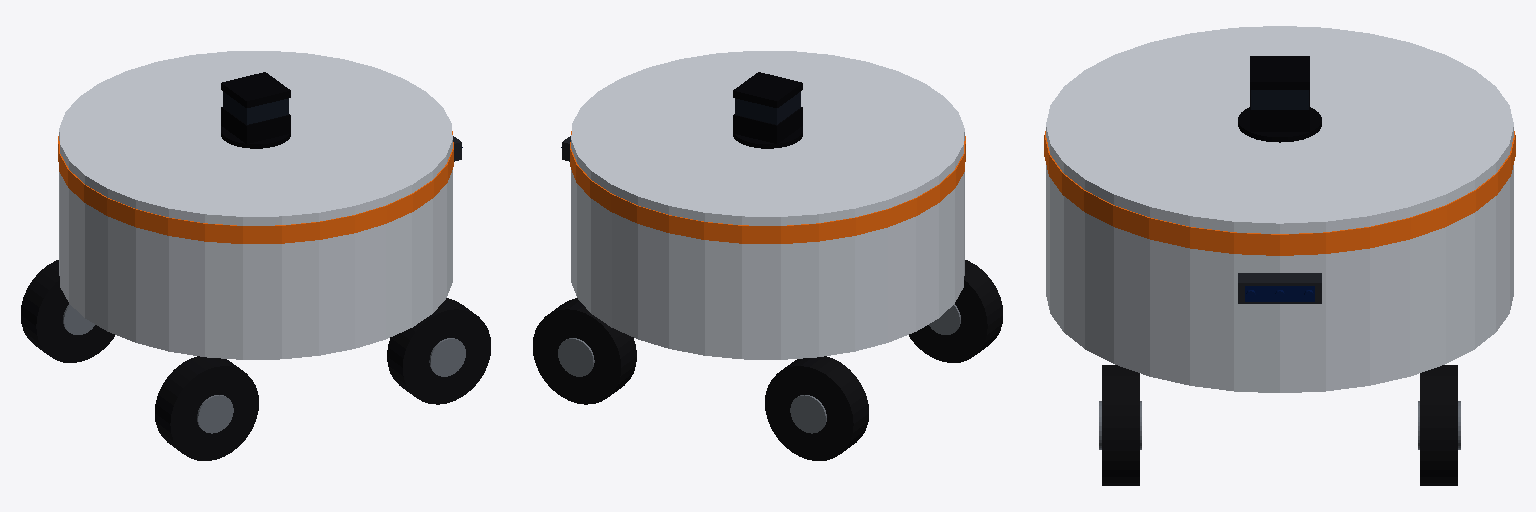
The robot description file, URDF, robot "zhirong_omni_robot":
<?xml version="1.0"?>
<!--
  Zhirong Cup omnidirectional robot - minimalist primitive-geometry URDF
  ======================================================================
  Coordinate convention:
    +X : forward (depth camera side)
    +Y : left
    +Z : up
    base_footprint : ground projection of the robot centre
    base_link      : geometric centre of the cylindrical body

  Key dimensions (metres):
    body cylinder          radius 0.250, height 0.200
    body bottom / top      z = 0.140 / 0.340
    wheel                  radius 0.065, width 0.040
    wheel centres          x = +-0.170, y = +-0.170, z = 0.065
    Livox Mid-360          65 x 65 x 60 mm, on body top centre
    depth camera (D435i)   90 x 25 x 25 mm, front face of body
  ======================================================================
-->
<robot name="zhirong_omni_robot">

  <!-- ======================= materials ======================= -->
  <material name="body_gray">
    <color rgba="0.82 0.84 0.87 1.0"/>
  </material>
  <material name="accent_orange">
    <color rgba="0.95 0.45 0.10 1.0"/>
  </material>
  <material name="wheel_black">
    <color rgba="0.09 0.09 0.10 1.0"/>
  </material>
  <material name="hub_gray">
    <color rgba="0.45 0.47 0.50 1.0"/>
  </material>
  <material name="lidar_black">
    <color rgba="0.05 0.05 0.06 1.0"/>
  </material>
  <material name="lidar_glass">
    <color rgba="0.10 0.12 0.16 1.0"/>
  </material>
  <material name="camera_dark">
    <color rgba="0.15 0.16 0.18 1.0"/>
  </material>
  <material name="lens_blue">
    <color rgba="0.04 0.12 0.30 1.0"/>
  </material>

  <!-- ======================= chassis ======================= -->
  <link name="base_footprint"/>

  <link name="base_link">
    <inertial>
      <origin xyz="0 0 0" rpy="0 0 0"/>
      <mass value="8.0"/>
      <!-- solid cylinder: Ixx=Iyy=m(3r^2+h^2)/12, Izz=m r^2/2 -->
      <inertia ixx="0.1516667" ixy="0.0" ixz="0.0"
               iyy="0.1516667" iyz="0.0" izz="0.25"/>
    </inertial>

    <visual>
      <origin xyz="0 0 0" rpy="0 0 0"/>
      <geometry>
        <cylinder radius="0.25" length="0.20"/>
      </geometry>
      <material name="body_gray"/>
    </visual>

    <!-- thin orange accent band, purely cosmetic -->
    <visual>
      <origin xyz="0 0 0.075" rpy="0 0 0"/>
      <geometry>
        <cylinder radius="0.2515" length="0.025"/>
      </geometry>
      <material name="accent_orange"/>
    </visual>

    <collision>
      <origin xyz="0 0 0" rpy="0 0 0"/>
      <geometry>
        <cylinder radius="0.25" length="0.20"/>
      </geometry>
    </collision>
  </link>

  <joint name="base_footprint_joint" type="fixed">
    <parent link="base_footprint"/>
    <child link="base_link"/>
    <origin xyz="0 0 0.24" rpy="0 0 0"/>
  </joint>

  <!-- ======================= wheels =======================
       Four mecanum-style wheels, X layout (45 deg positions).
       Wheel axle is parallel to Y, so every wheel uses axis "0 1 0".
       For mecanum kinematics the four wheel speeds are the usual
       w_fl = ( vx - vy - (lx+ly)wz ) / r  ... etc.
  ======================================================== -->

  <!-- front left -->
  <link name="wheel_front_left_link">
    <inertial>
      <origin xyz="0 0 0" rpy="0 0 0"/>
      <mass value="0.4"/>
      <!-- cylinder axis along Y -->
      <inertia ixx="0.0004758" ixy="0.0" ixz="0.0"
               iyy="0.0008450" iyz="0.0" izz="0.0004758"/>
    </inertial>
    <visual>
      <origin xyz="0 0 0" rpy="1.57079632679 0 0"/>
      <geometry>
        <cylinder radius="0.065" length="0.040"/>
      </geometry>
      <material name="wheel_black"/>
    </visual>
    <visual>
      <origin xyz="0 0 0" rpy="1.57079632679 0 0"/>
      <geometry>
        <cylinder radius="0.026" length="0.046"/>
      </geometry>
      <material name="hub_gray"/>
    </visual>
    <collision>
      <origin xyz="0 0 0" rpy="1.57079632679 0 0"/>
      <geometry>
        <cylinder radius="0.065" length="0.040"/>
      </geometry>
    </collision>
  </link>
  <joint name="wheel_front_left_joint" type="continuous">
    <parent link="base_link"/>
    <child link="wheel_front_left_link"/>
    <origin xyz="0.17 0.17 -0.175" rpy="0 0 0"/>
    <axis xyz="0 1 0"/>
    <limit effort="20.0" velocity="30.0"/>
    <dynamics damping="0.01" friction="0.01"/>
  </joint>

  <!-- front right -->
  <link name="wheel_front_right_link">
    <inertial>
      <origin xyz="0 0 0" rpy="0 0 0"/>
      <mass value="0.4"/>
      <inertia ixx="0.0004758" ixy="0.0" ixz="0.0"
               iyy="0.0008450" iyz="0.0" izz="0.0004758"/>
    </inertial>
    <visual>
      <origin xyz="0 0 0" rpy="1.57079632679 0 0"/>
      <geometry>
        <cylinder radius="0.065" length="0.040"/>
      </geometry>
      <material name="wheel_black"/>
    </visual>
    <visual>
      <origin xyz="0 0 0" rpy="1.57079632679 0 0"/>
      <geometry>
        <cylinder radius="0.026" length="0.046"/>
      </geometry>
      <material name="hub_gray"/>
    </visual>
    <collision>
      <origin xyz="0 0 0" rpy="1.57079632679 0 0"/>
      <geometry>
        <cylinder radius="0.065" length="0.040"/>
      </geometry>
    </collision>
  </link>
  <joint name="wheel_front_right_joint" type="continuous">
    <parent link="base_link"/>
    <child link="wheel_front_right_link"/>
    <origin xyz="0.17 -0.17 -0.175" rpy="0 0 0"/>
    <axis xyz="0 1 0"/>
    <limit effort="20.0" velocity="30.0"/>
    <dynamics damping="0.01" friction="0.01"/>
  </joint>

  <!-- rear left -->
  <link name="wheel_rear_left_link">
    <inertial>
      <origin xyz="0 0 0" rpy="0 0 0"/>
      <mass value="0.4"/>
      <inertia ixx="0.0004758" ixy="0.0" ixz="0.0"
               iyy="0.0008450" iyz="0.0" izz="0.0004758"/>
    </inertial>
    <visual>
      <origin xyz="0 0 0" rpy="1.57079632679 0 0"/>
      <geometry>
        <cylinder radius="0.065" length="0.040"/>
      </geometry>
      <material name="wheel_black"/>
    </visual>
    <visual>
      <origin xyz="0 0 0" rpy="1.57079632679 0 0"/>
      <geometry>
        <cylinder radius="0.026" length="0.046"/>
      </geometry>
      <material name="hub_gray"/>
    </visual>
    <collision>
      <origin xyz="0 0 0" rpy="1.57079632679 0 0"/>
      <geometry>
        <cylinder radius="0.065" length="0.040"/>
      </geometry>
    </collision>
  </link>
  <joint name="wheel_rear_left_joint" type="continuous">
    <parent link="base_link"/>
    <child link="wheel_rear_left_link"/>
    <origin xyz="-0.17 0.17 -0.175" rpy="0 0 0"/>
    <axis xyz="0 1 0"/>
    <limit effort="20.0" velocity="30.0"/>
    <dynamics damping="0.01" friction="0.01"/>
  </joint>

  <!-- rear right -->
  <link name="wheel_rear_right_link">
    <inertial>
      <origin xyz="0 0 0" rpy="0 0 0"/>
      <mass value="0.4"/>
      <inertia ixx="0.0004758" ixy="0.0" ixz="0.0"
               iyy="0.0008450" iyz="0.0" izz="0.0004758"/>
    </inertial>
    <visual>
      <origin xyz="0 0 0" rpy="1.57079632679 0 0"/>
      <geometry>
        <cylinder radius="0.065" length="0.040"/>
      </geometry>
      <material name="wheel_black"/>
    </visual>
    <visual>
      <origin xyz="0 0 0" rpy="1.57079632679 0 0"/>
      <geometry>
        <cylinder radius="0.026" length="0.046"/>
      </geometry>
      <material name="hub_gray"/>
    </visual>
    <collision>
      <origin xyz="0 0 0" rpy="1.57079632679 0 0"/>
      <geometry>
        <cylinder radius="0.065" length="0.040"/>
      </geometry>
    </collision>
  </link>
  <joint name="wheel_rear_right_joint" type="continuous">
    <parent link="base_link"/>
    <child link="wheel_rear_right_link"/>
    <origin xyz="-0.17 -0.17 -0.175" rpy="0 0 0"/>
    <axis xyz="0 1 0"/>
    <limit effort="20.0" velocity="30.0"/>
    <dynamics damping="0.01" friction="0.01"/>
  </joint>

  <!-- ======================= Livox Mid-360 =======================
       Link frame: centre of the mounting face (top of the body).
       Device: 65 x 65 x 60 mm, weight 265 g.
       Mounting plate 6 mm + device 60 mm -> top of lidar at z = 0.406.
  =============================================================== -->
  <link name="livox_mid360_link">
    <inertial>
      <origin xyz="0 0 0.036" rpy="0 0 0"/>
      <mass value="0.265"/>
      <!-- box 0.065 x 0.065 x 0.060 -->
      <inertia ixx="0.0001727" ixy="0.0" ixz="0.0"
               iyy="0.0001727" iyz="0.0" izz="0.0001866"/>
    </inertial>

    <!-- adapter plate on the body top -->
    <visual>
      <origin xyz="0 0 0.003" rpy="0 0 0"/>
      <geometry>
        <cylinder radius="0.045" length="0.006"/>
      </geometry>
      <material name="lidar_black"/>
    </visual>

    <!-- lower housing -->
    <visual>
      <origin xyz="0 0 0.019" rpy="0 0 0"/>
      <geometry>
        <box size="0.065 0.065 0.026"/>
      </geometry>
      <material name="lidar_black"/>
    </visual>

    <!-- 360 deg optical window band -->
    <visual>
      <origin xyz="0 0 0.044" rpy="0 0 0"/>
      <geometry>
        <box size="0.062 0.062 0.024"/>
      </geometry>
      <material name="lidar_glass"/>
    </visual>

    <!-- top cap -->
    <visual>
      <origin xyz="0 0 0.061" rpy="0 0 0"/>
      <geometry>
        <box size="0.065 0.065 0.010"/>
      </geometry>
      <material name="lidar_black"/>
    </visual>

    <collision>
      <origin xyz="0 0 0.033" rpy="0 0 0"/>
      <geometry>
        <box size="0.065 0.065 0.066"/>
      </geometry>
    </collision>
  </link>
  <joint name="livox_mid360_joint" type="fixed">
    <parent link="base_link"/>
    <child link="livox_mid360_link"/>
    <origin xyz="0 0 0.10" rpy="0 0 0"/>
  </joint>

  <!-- ======================= depth camera =======================
       Intel RealSense D435i style: 90 x 25 x 25 mm.
       Body centre at x = 0.263 (back face 0.2505), z = 0.270.
       camera_link  : x forward, y left, z up (body axes)
       camera_optical_frame : z forward, x right, y down (REP-103)
  =============================================================== -->
  <link name="camera_link">
    <inertial>
      <origin xyz="0 0 0" rpy="0 0 0"/>
      <mass value="0.09"/>
      <!-- box 0.025 x 0.090 x 0.025 -->
      <inertia ixx="0.0000654" ixy="0.0" ixz="0.0"
               iyy="0.0000094" iyz="0.0" izz="0.0000654"/>
    </inertial>

    <visual>
      <origin xyz="0 0 0" rpy="0 0 0"/>
      <geometry>
        <box size="0.025 0.090 0.025"/>
      </geometry>
      <material name="camera_dark"/>
    </visual>

    <!-- dark front glass -->
    <visual>
      <origin xyz="0.0135 0 0" rpy="0 0 0"/>
      <geometry>
        <box size="0.002 0.074 0.018"/>
      </geometry>
      <material name="lens_blue"/>
    </visual>

    <!-- three lenses: left IR / RGB / right IR -->
    <visual>
      <origin xyz="0.0165 -0.031 0" rpy="0 1.57079632679 0"/>
      <geometry>
        <cylinder radius="0.0050" length="0.004"/>
      </geometry>
      <material name="lens_blue"/>
    </visual>
    <visual>
      <origin xyz="0.0165 0.000 0" rpy="0 1.57079632679 0"/>
      <geometry>
        <cylinder radius="0.0050" length="0.004"/>
      </geometry>
      <material name="lens_blue"/>
    </visual>
    <visual>
      <origin xyz="0.0165 0.031 0" rpy="0 1.57079632679 0"/>
      <geometry>
        <cylinder radius="0.0050" length="0.004"/>
      </geometry>
      <material name="lens_blue"/>
    </visual>

    <collision>
      <origin xyz="0 0 0" rpy="0 0 0"/>
      <geometry>
        <box size="0.025 0.090 0.025"/>
      </geometry>
    </collision>
  </link>
  <joint name="camera_joint" type="fixed">
    <parent link="base_link"/>
    <child link="camera_link"/>
    <origin xyz="0.263 0 0.03" rpy="0 0 0"/>
  </joint>

  <link name="camera_optical_frame"/>
  <joint name="camera_optical_joint" type="fixed">
    <parent link="camera_link"/>
    <child link="camera_optical_frame"/>
    <origin xyz="0.0185 0 0" rpy="-1.57079632679 0 -1.57079632679"/>
  </joint>

</robot>

--- Facts derived from the render (not from the file) ---
Views: 3 orthographic renders of the robot side by side, from view 1: azimuth 30°, elevation 25°; view 2: azimuth 150°, elevation 25°; view 3: azimuth 270°, elevation 25°.
Robot: zhirong_omni_robot — 9 links, 8 joints (4 continuous, 4 fixed); root link base_footprint; default pose: every joint at zero.
Visible links, largest first — view 1: base_link, wheel_rear_right_link, wheel_front_right_link, wheel_rear_left_link, livox_mid360_link; view 2: base_link, wheel_rear_left_link, wheel_front_left_link, wheel_rear_right_link, livox_mid360_link; view 3: base_link, livox_mid360_link, wheel_front_left_link, wheel_front_right_link, camera_link.
Boxes of the visible links, x1,y1,x2,y2 form: base_link: (58, 51, 453, 359); wheel_rear_right_link: (155, 356, 258, 460); wheel_front_right_link: (387, 298, 490, 404); wheel_rear_left_link: (21, 260, 114, 362); livox_mid360_link: (221, 72, 290, 148); base_link: (570, 51, 965, 359); wheel_rear_left_link: (765, 356, 868, 460); wheel_front_left_link: (533, 298, 636, 404); wheel_rear_right_link: (909, 260, 1002, 362); livox_mid360_link: (733, 72, 802, 148); base_link: (1044, 26, 1515, 392); livox_mid360_link: (1238, 56, 1321, 142); wheel_front_left_link: (1418, 365, 1460, 485); wheel_front_right_link: (1099, 365, 1141, 485); camera_link: (1238, 273, 1321, 303).
Size in the robot's own frame: 0.533 by 0.503 by 0.406 metres.
Geometry: primitives only (box / cylinder / sphere), no mesh files.
